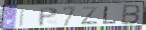7: (62, 6, 78, 27)
B: (120, 4, 142, 26)
I: (19, 7, 27, 28)
L: (102, 6, 118, 25)
P: (38, 7, 60, 28)
Z: (80, 6, 99, 25)
